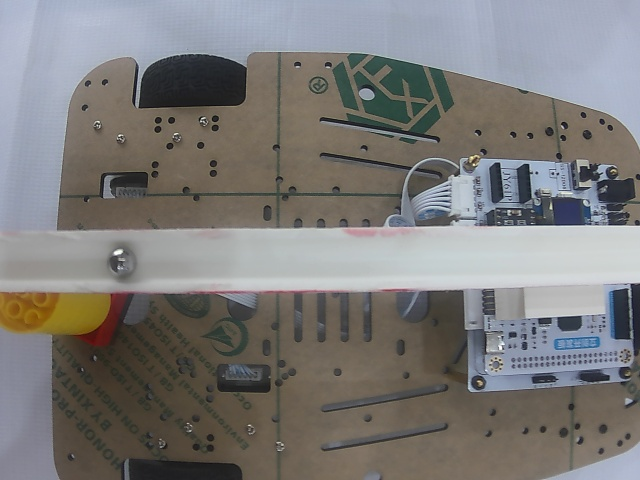steelball: (107, 246, 137, 276)
